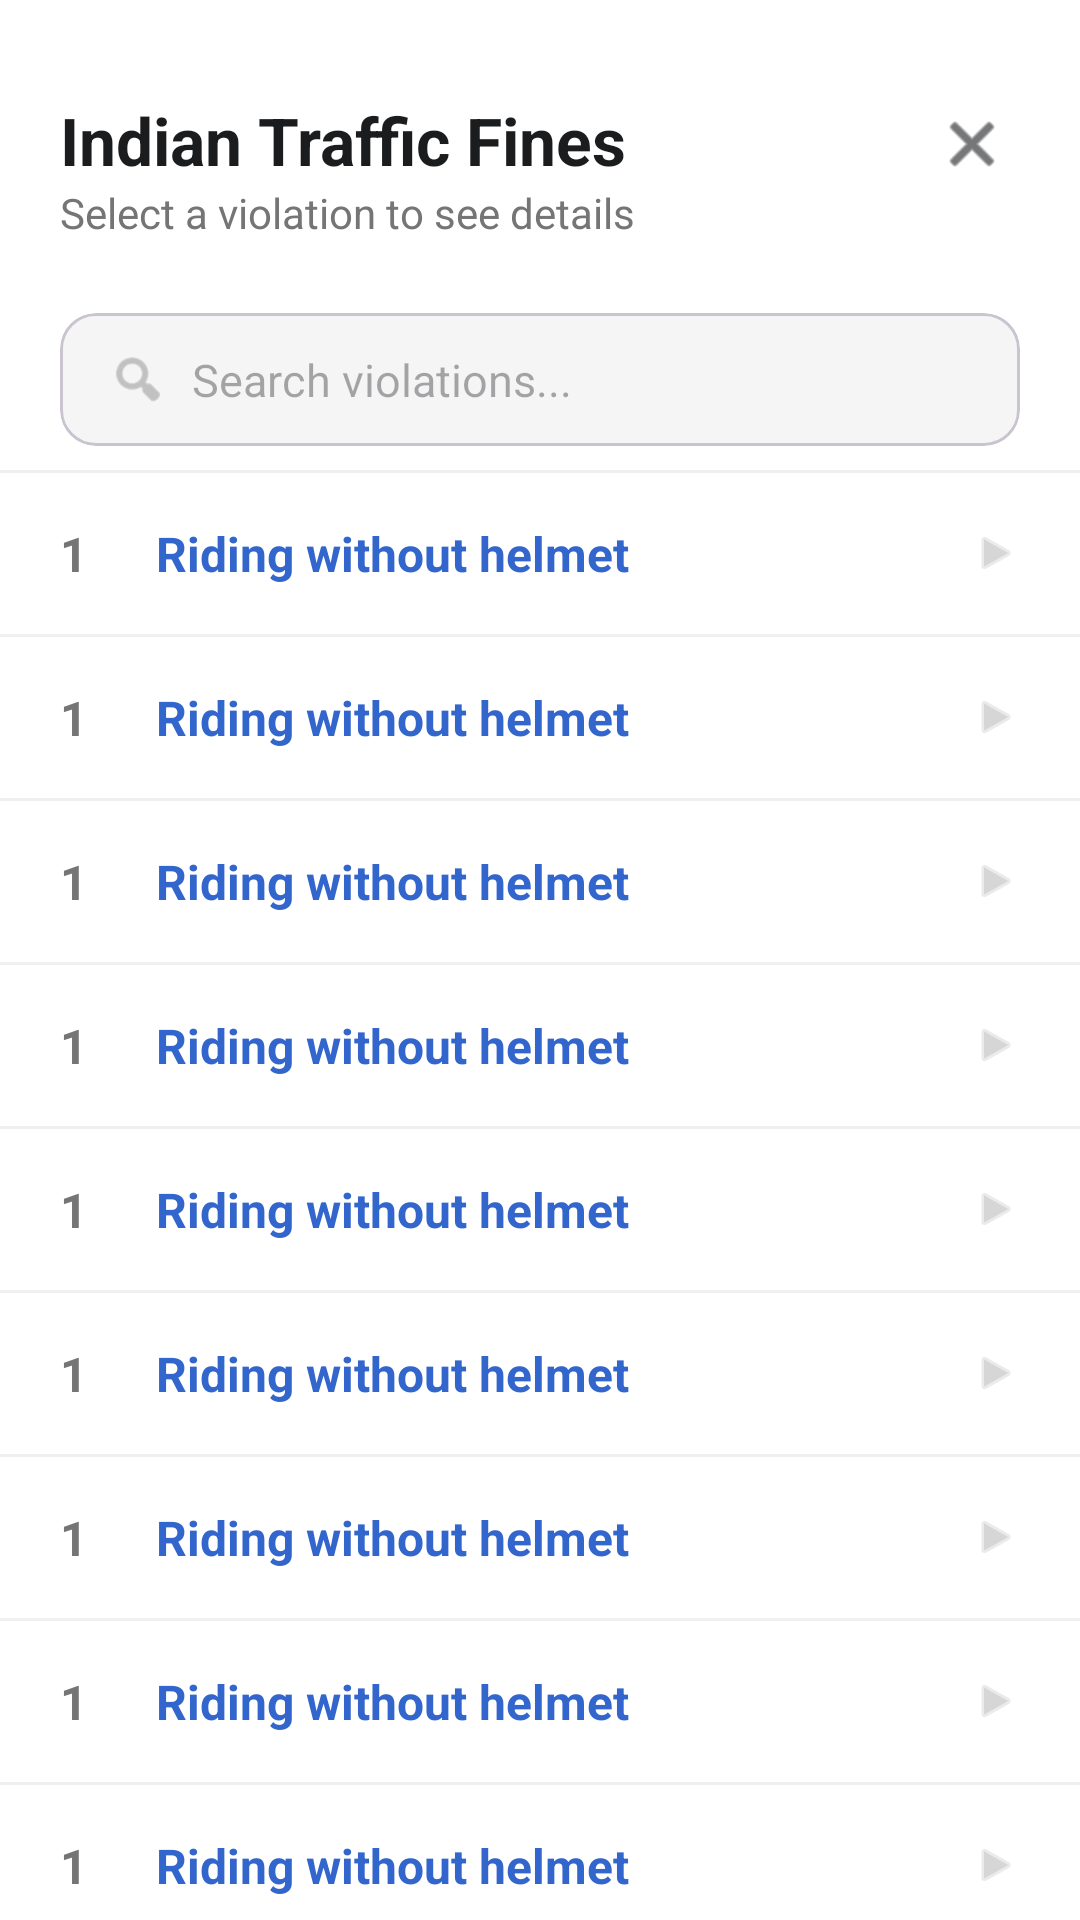

Named icons in this screenshot (1080px×1920px) and their bounding boxes, (x1, y1, x2, y2):
close clear cancel: (949, 121, 995, 167)
